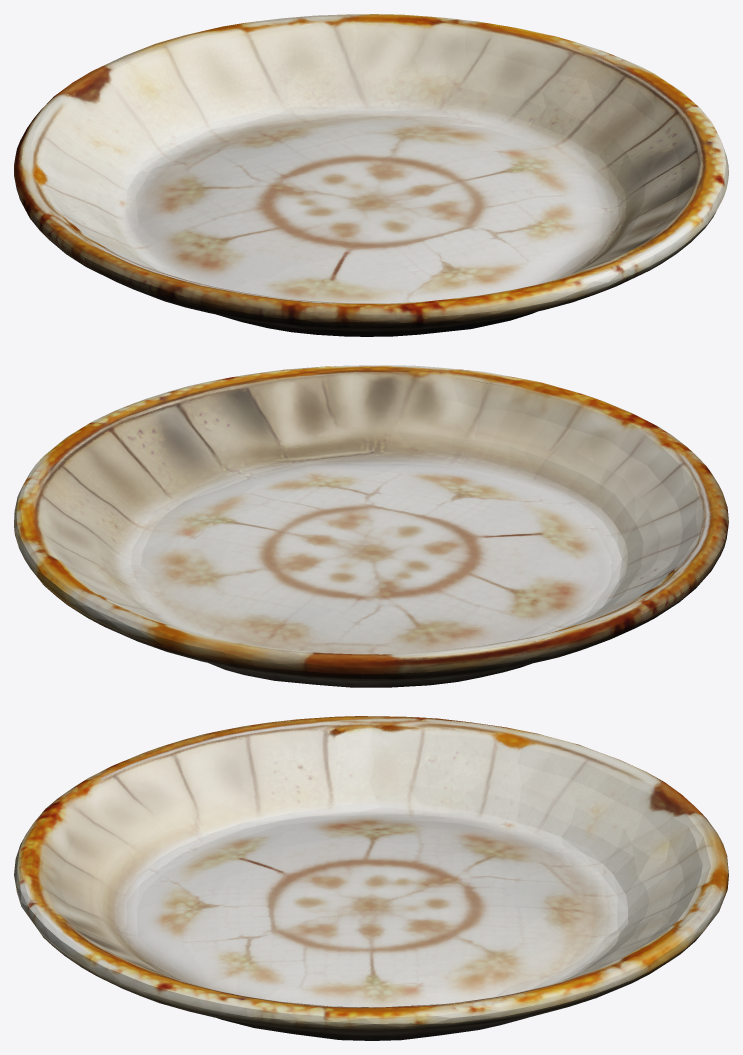
File: porcelain-saucer-used-rustic-worn.jpeg.glb
3 views of the same model, one above another, from view 1: azimuth 30°, elevation 25°; view 2: azimuth 150°, elevation 25°; view 3: azimuth 270°, elevation 25° (orthographic).
Visible parts, largest first — view 1: world; view 2: world; view 3: world.
Part boxes in pixels (bbox=[...]): world: bbox=[14, 14, 728, 336]; world: bbox=[14, 365, 728, 687]; world: bbox=[14, 716, 728, 1040].
Size of the model in its own units: 1 by 0.1118 by 1.
Materials: 1 (1 with a texture image).
